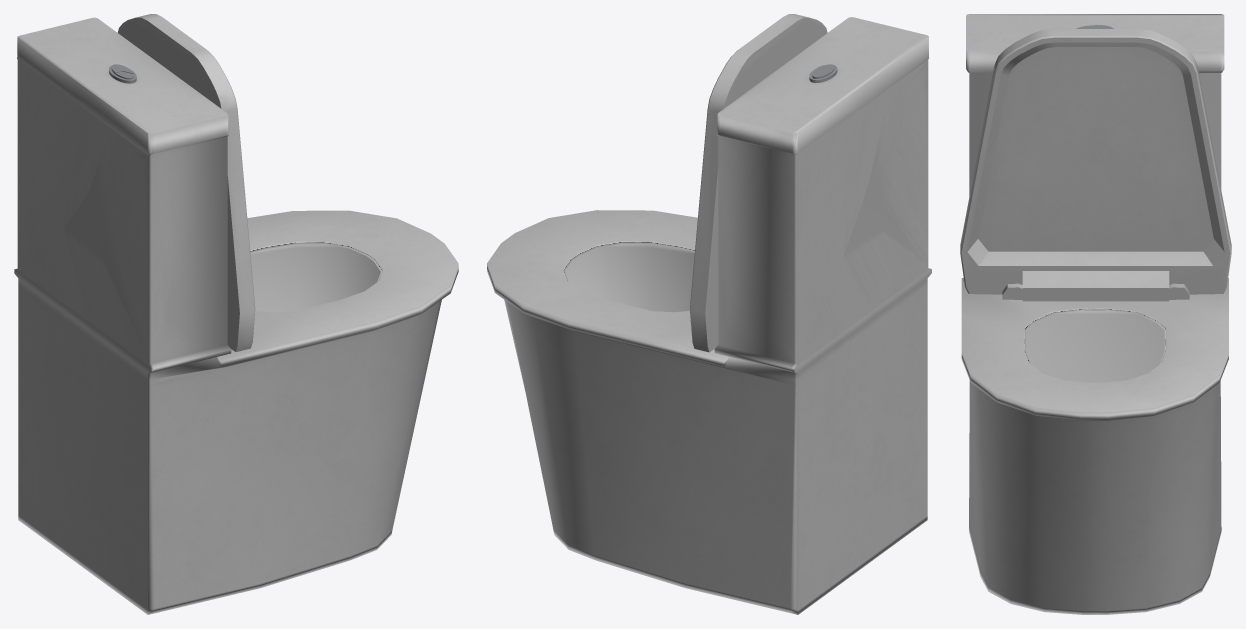
Rendered from toilet2.fbx.
3 renders of one model, left to right at view 1: azimuth 30°, elevation 25°; view 2: azimuth 150°, elevation 25°; view 3: azimuth 270°, elevation 25°, orthographic. The views are drawn at different scales.
Parts seen in each view (by area): view 1: toilet; view 2: toilet; view 3: toilet.
Part boxes in pixels (<box>): toilet: <box>14,14,458,614</box>; toilet: <box>487,14,931,614</box>; toilet: <box>960,14,1231,614</box>.
Bounding box in the file's own units: 79.75 × 109 × 54.71.
2 materials, 2 textured.
